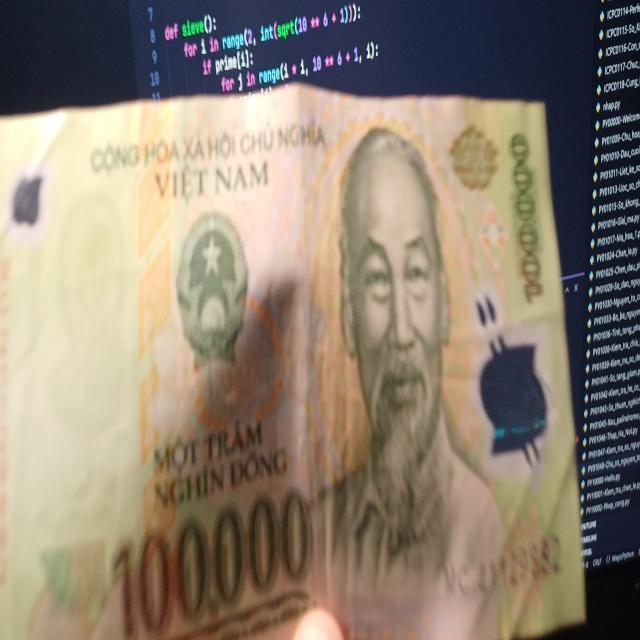100 000 VND: (0, 79, 588, 640)
